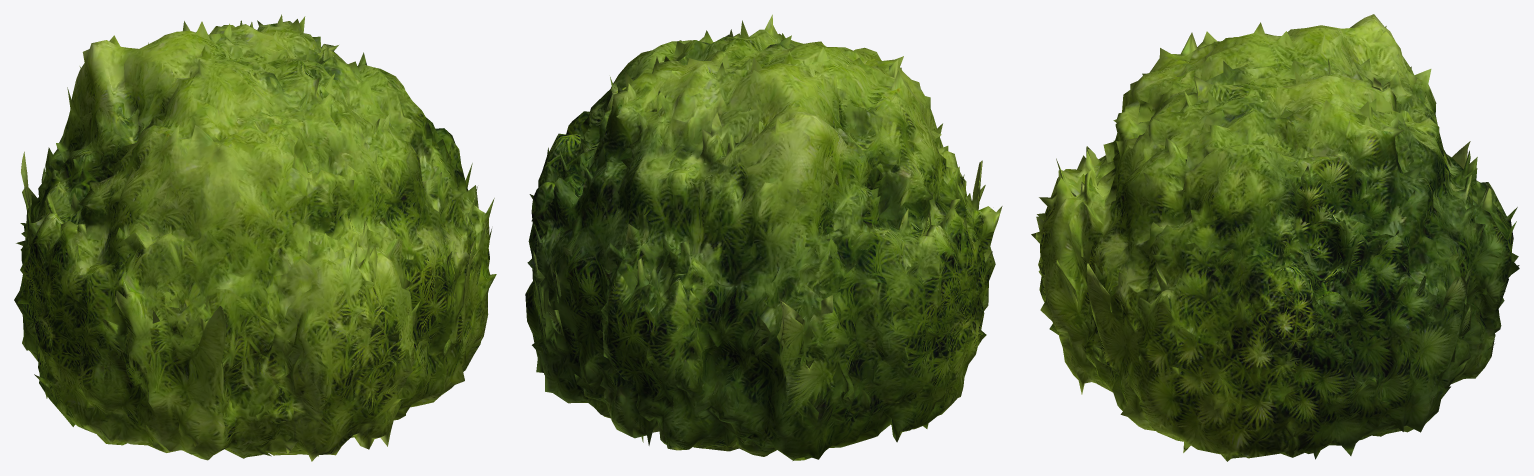
The model's file is shrub3.fbx.
The picture shows the model from 3 angles, left to right: view 1: azimuth 30°, elevation 25°; view 2: azimuth 150°, elevation 25°; view 3: azimuth 270°, elevation 25°; orthographic projection. The views are drawn at different scales.
Parts seen in each view (by area): view 1: tripo_node_4dba2cff; view 2: tripo_node_4dba2cff; view 3: tripo_node_4dba2cff.
Boxes of the visible parts, x1,y1,x2,y2 form: tripo_node_4dba2cff: (14, 14, 496, 461); tripo_node_4dba2cff: (525, 14, 1002, 460); tripo_node_4dba2cff: (1031, 14, 1519, 461).
Size of the model in its own units: 0.9419 by 0.7752 by 0.9815.
Materials: 1 (1 with a texture image).
